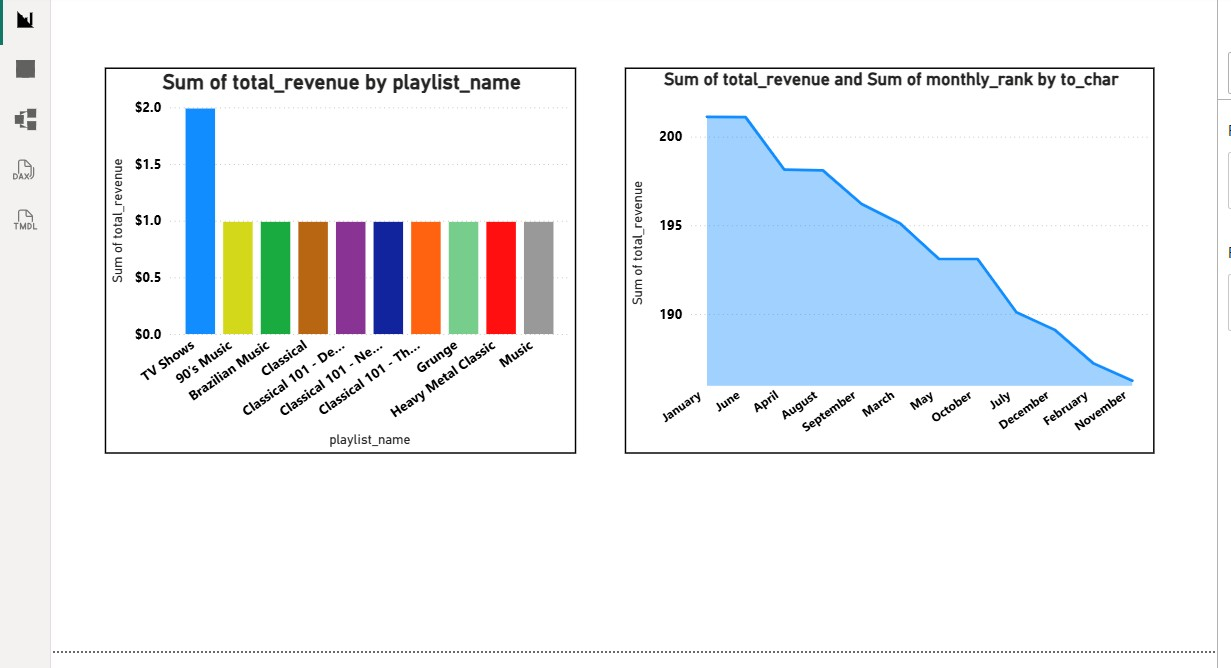

The page's visual inventory and layout, read from the dashboard file:
{"tool":"powerbi","page":{"name":"Page 2","canvas":[1280,720],"ordinal":1},"visuals":[{"type":"columnChart","fields":{"Category":["public playlist_total_revenue_view.playlist_name"],"Y":["Sum(public playlist_total_revenue_view.total_revenue)"]},"box":[59,79.6,517.3,424],"z":0},{"type":"areaChart","fields":{"Category":["public monthly_revenue_view.to_char"],"Y":["Sum(public monthly_revenue_view.total_revenue)"]},"box":[629.8,79.6,581.8,424],"z":1000}]}

Visuals, with their boxes on the page's 1280x720 design canvas (x1, y1, x2, y2). These are canvas units, not pixel positions in the 1231x668 screenshot, which may show the page scaled, cropped or inside an application window:
columnChart - public playlist_total_revenue_view.playlist_name x Sum(public playlist_total_revenue_view.total_revenue): bbox(59, 80, 576, 504)
areaChart - public monthly_revenue_view.to_char x Sum(public monthly_revenue_view.total_revenue): bbox(630, 80, 1212, 504)
